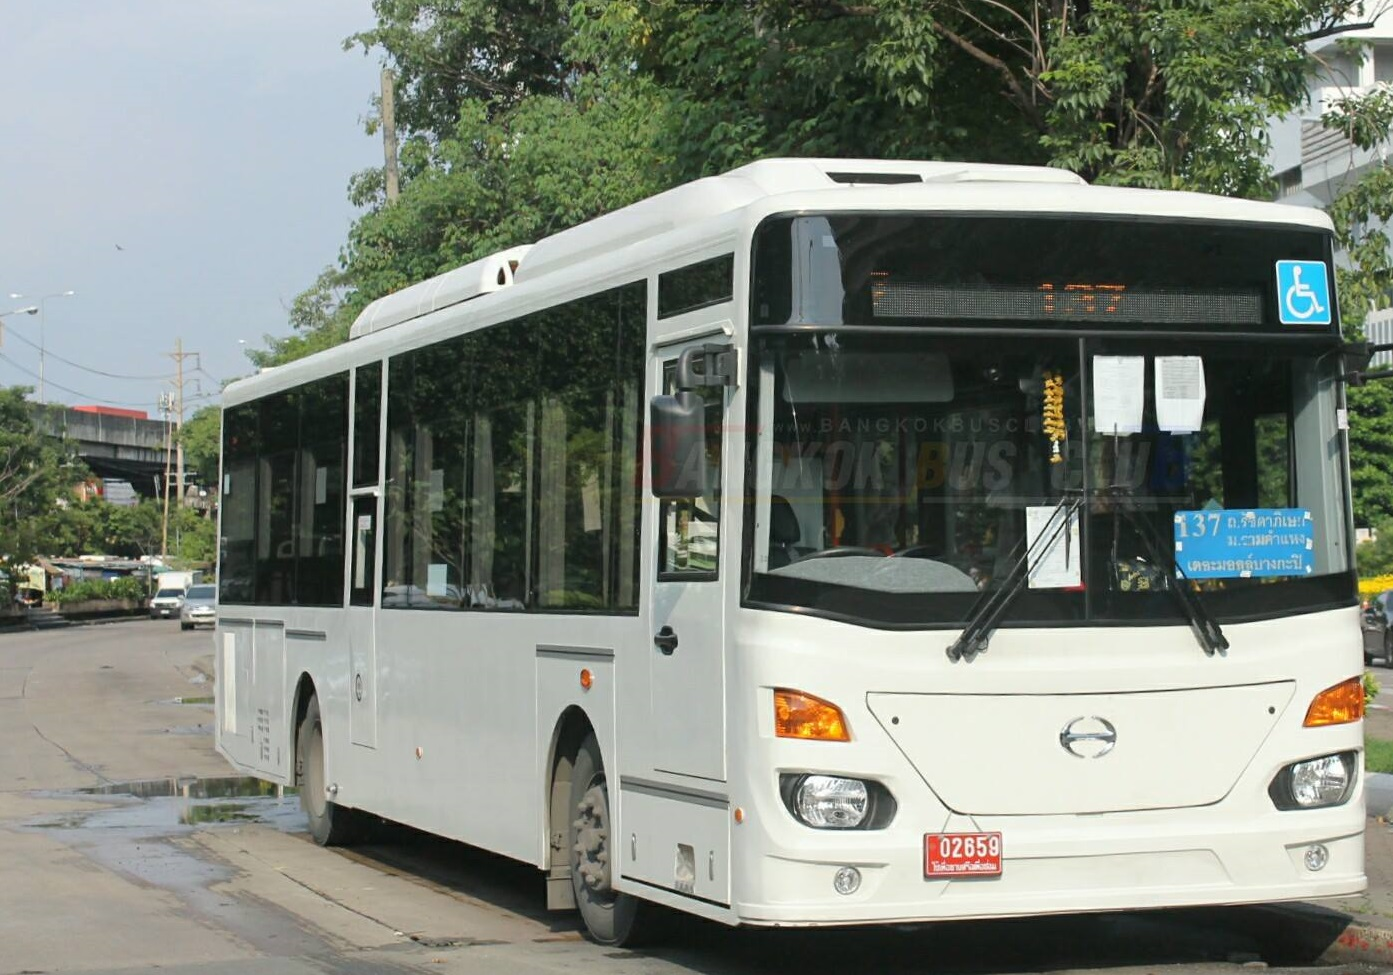bus: (211, 151, 1375, 953)
